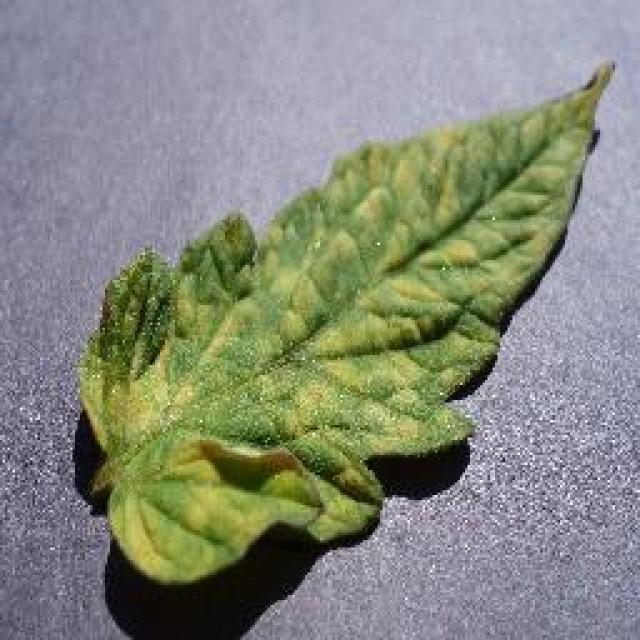Tomato___Leaf_Mold: (75, 58, 615, 585)
